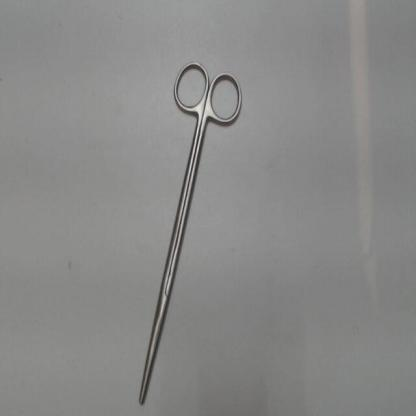9 Metzenbaum Scissors: (132, 54, 247, 414)
